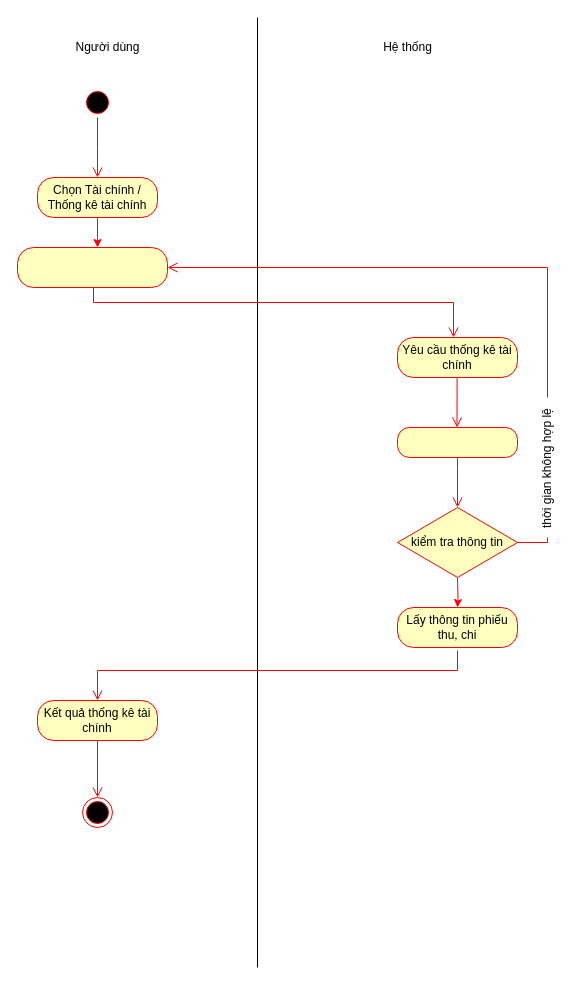
This 575x986 diagram has some shape labels left out. The shapes that lost their labels are listed below. From the top down, each one's box as (x1, y1, x2, y2) in pixels, then its label:
(16, 246, 168, 288): Nhập khoảng thời gian
(396, 426, 518, 458): xử lý dữ liệu
